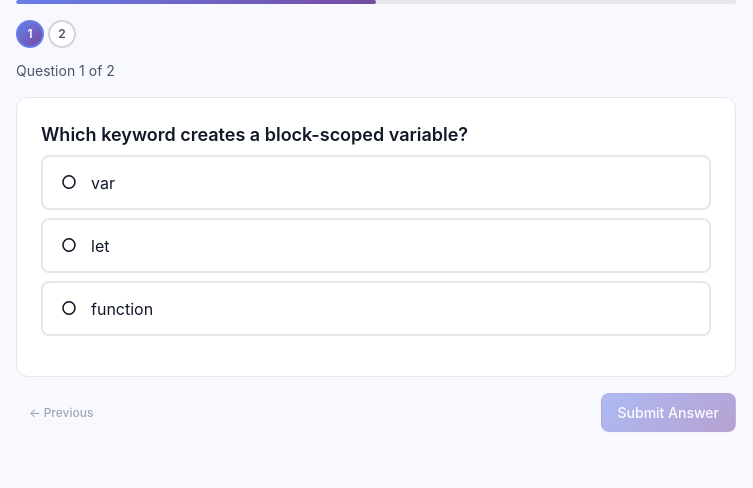
it: QuizPanel › clicking a dot navigates to that question
// Click dot for question 2
Click the tab "2". click: [62, 34]
box: x1=48 y1=20 x2=76 y2=48
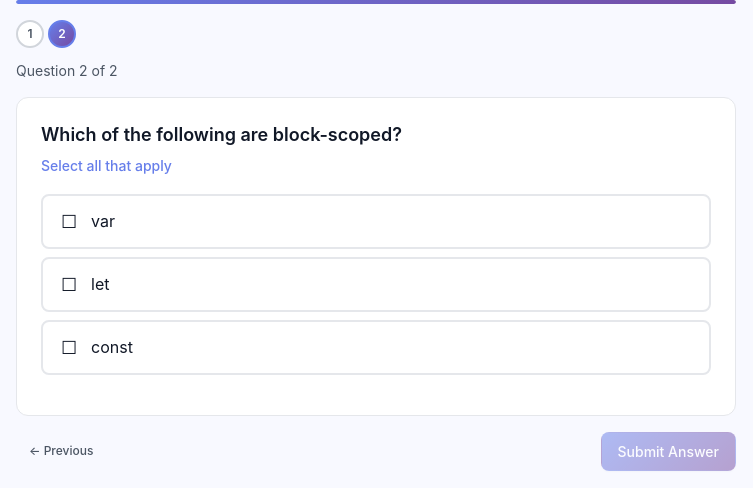
Expected: the text "Question 2 of 2" is shown, x1=16 y1=62 x2=118 y2=79
